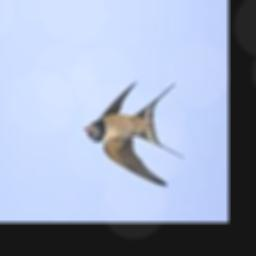Swallow: (83, 82, 184, 187)
